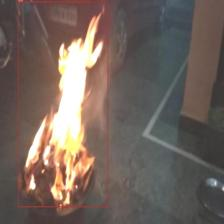fire: (18, 1, 108, 207)
